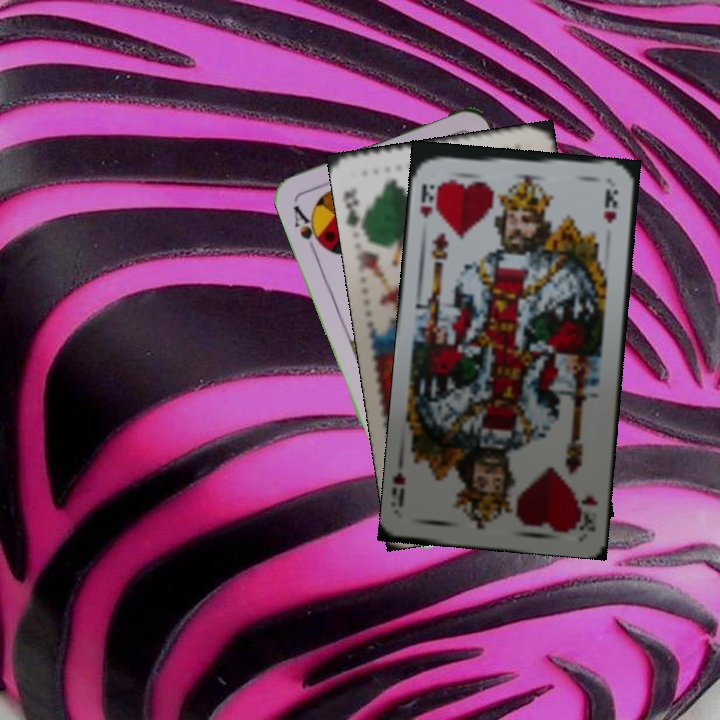GK: (339, 185, 370, 234)
HK: (573, 491, 600, 532), (416, 179, 437, 221)
SA: (288, 201, 327, 255)
